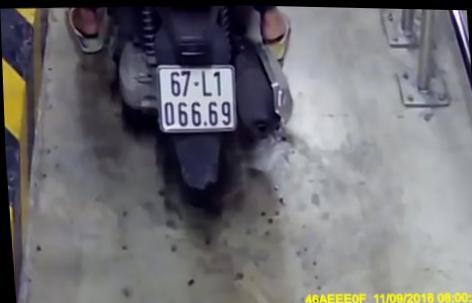LP: (155, 60, 239, 133)
